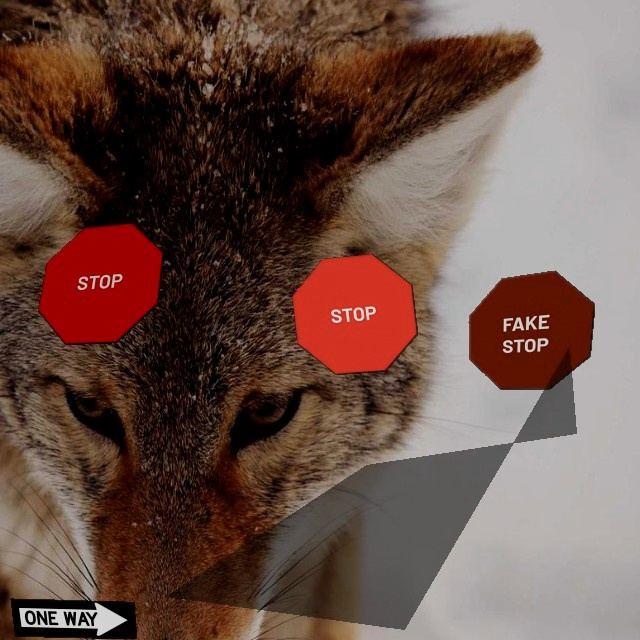FAKE_STOP: (468, 270, 595, 390)
ONE_WAY_ right: (10, 598, 137, 639)
STOP: (37, 222, 164, 345), (291, 253, 418, 375)
